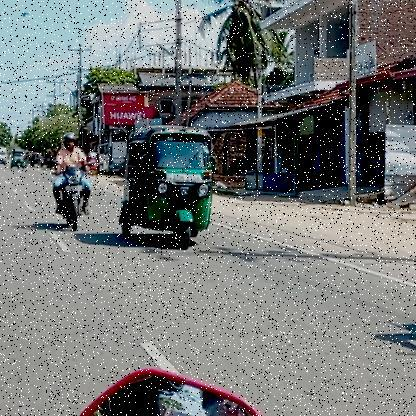motorcycle: (48, 165, 96, 235)
